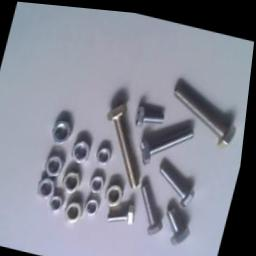Non-corroded Nut: (41, 147, 85, 211), (69, 193, 104, 222), (54, 110, 75, 142), (74, 132, 95, 161), (109, 182, 127, 205), (99, 139, 115, 163), (93, 169, 109, 192)
Non-corroded-Bolts: (109, 98, 167, 231), (175, 78, 238, 143), (142, 118, 197, 162), (163, 157, 198, 203), (138, 95, 166, 124), (171, 205, 194, 240), (112, 202, 139, 221)
